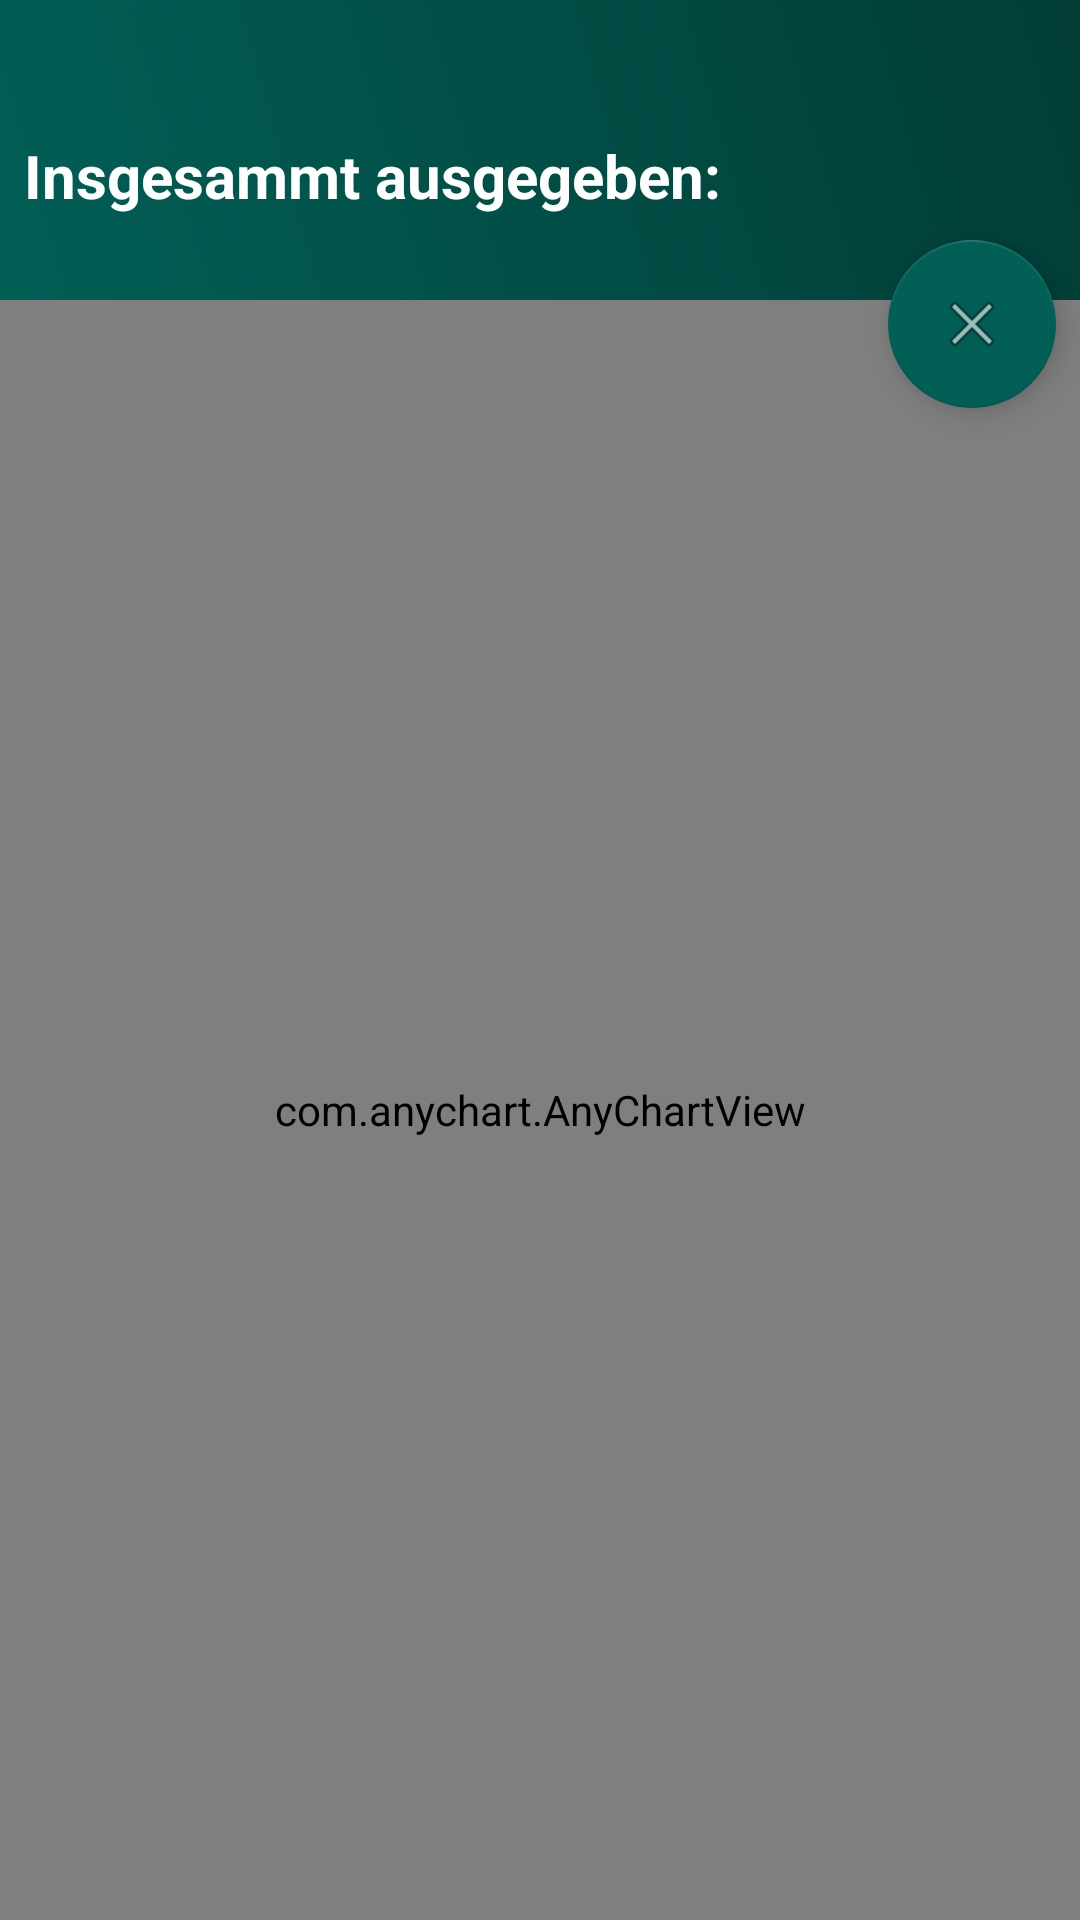

Icon click points for this 1080w x 1920h phone screenshot, format (x,y):
close clear cancel: (972,324)
